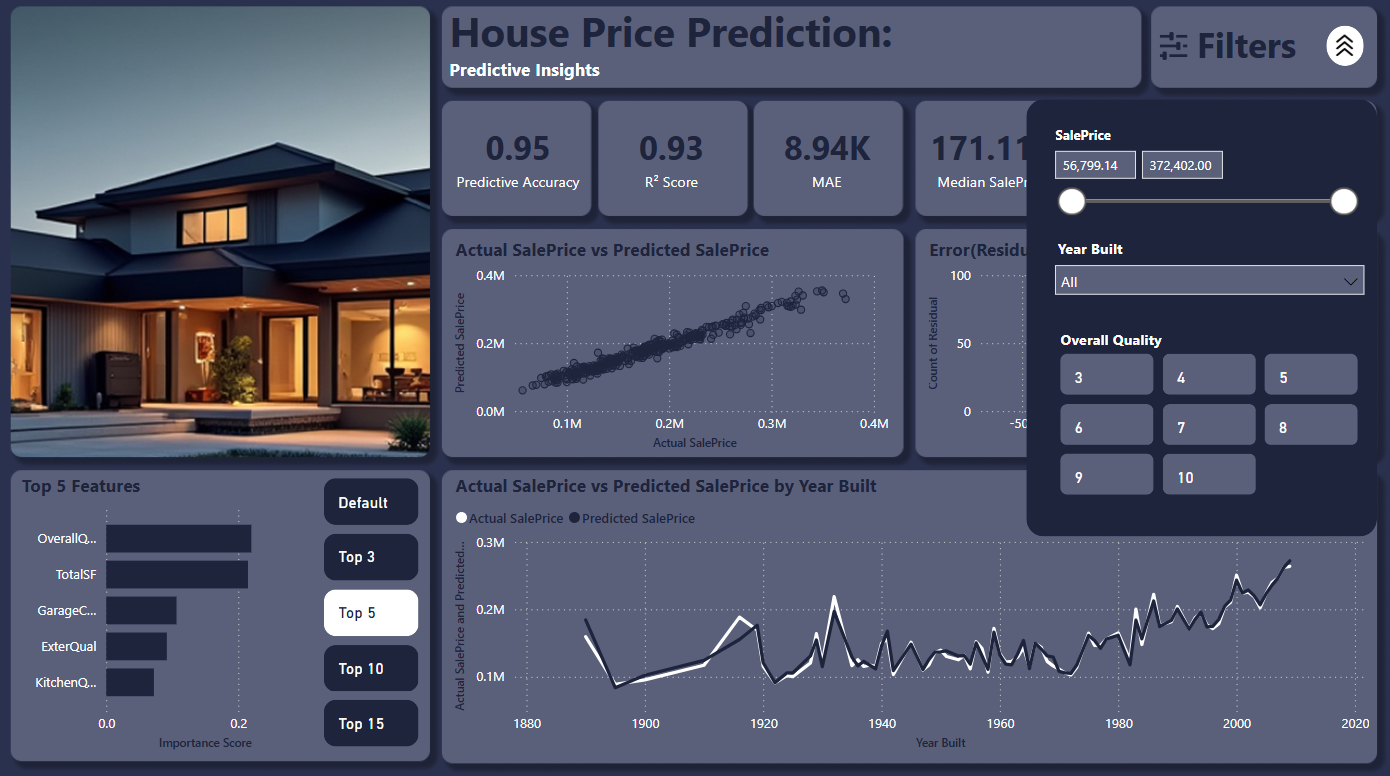

Layout of this report page (visuals, bound fields, positions):
{"tool":"powerbi","page":{"name":"Predictive Insights","canvas":[1280,720],"ordinal":2},"visuals":[{"type":"image","box":[1056,24,48,40],"z":0,"group":"g2"},{"type":"shape","box":[1221.4,25.3,34.7,37.2],"z":0,"group":"g1"},{"type":"scatterChart","title":"Actual SalePrice vs Predicted SalePrice","fields":{"X":["xgboost_predictions.Actual_SalePrice"],"Y":["xgboost_predictions.Predicted_SalePrice"]},"box":[414.9,220.3,409.5,201.4],"z":0},{"type":"textbox","box":[1096,16,125.3,52],"z":1000,"group":"g2"},{"type":"image","box":[1218.7,21.3,38.7,44],"z":1000,"group":"g1"},{"type":"clusteredBarChart","fields":{"Category":["all_features.Feature"],"Y":["Feature_Measures.Top_N_By_Importance"]},"box":[14.9,437.8,278.4,259.5],"z":1000},{"type":"group","id":"g1","title":"Filter Down Button","box":[1218.7,19.3,39.1,48],"z":2000,"group":"g2"},{"type":"advancedSlicerVisual","fields":{"Values":["Rank Table.Option"]},"box":[293.2,437.8,97.3,259.5],"z":2000},{"type":"clusteredColumnChart","title":"Error(Residual) Distribution","fields":{"Category":["xgboost_predictions.Residual Bins"],"Y":["CountNonNull(xgboost_predictions.Residual)"]},"box":[850,220.3,416.2,201.4],"z":3000},{"type":"lineChart","title":"Actual SalePrice vs Predicted SalePrice by Year Built","fields":{"Category":["xgboost_predictions.YearBuilt"],"Y":["Avg(xgboost_predictions.Actual_SalePrice)","Avg(xgboost_predictions.Predicted_SalePrice)"]},"box":[414.9,437.8,851.4,259.5],"z":4000},{"type":"card","fields":{"Values":["Avg(housing_price_metrics.Value)"]},"box":[414.9,100,125.7,93.2],"z":6000},{"type":"card","fields":{"Values":["Avg(housing_price_metrics.Value)"]},"box":[554.1,100,129.7,93.2],"z":7000},{"type":"card","fields":{"Values":["Avg(housing_price_metrics.Value)"]},"box":[698.6,100,125.7,93.2],"z":8000},{"type":"card","fields":{"Values":["Avg(housing_price_metrics.Value)"]},"box":[850,100,125.7,93.2],"z":9000},{"type":"card","fields":{"Values":["Avg(housing_price_metrics.Value)"]},"box":[987.8,100,133.8,93.2],"z":10000},{"type":"card","fields":{"Values":["Avg(housing_price_metrics.Value)"]},"box":[1135.1,100,131.1,91.9],"z":11000},{"type":"textbox","box":[408,0,632,85.3],"z":12000},{"type":"group","id":"g2","title":"Filter Label","box":[1056,16,201.8,52],"z":13000}]}

Visuals, with their boxes in screenshot pixels (x1, y1, x2, y2), scaled from the page's 1280x720 canvas onto the 1390x776 screenshot:
image: x1=1147, y1=26, x2=1199, y2=69
shape: x1=1326, y1=27, x2=1364, y2=67
"Actual SalePrice vs Predicted SalePrice" scatterChart: x1=451, y1=237, x2=895, y2=454
textbox: x1=1190, y1=17, x2=1326, y2=73
image: x1=1323, y1=23, x2=1365, y2=70
clusteredBarChart - all_features.Feature x Feature_Measures.Top_N_By_Importance: x1=16, y1=472, x2=319, y2=752
"Filter Down Button" group: x1=1323, y1=21, x2=1366, y2=73
advancedSlicerVisual - Rank Table.Option: x1=318, y1=472, x2=424, y2=752
"Error(Residual) Distribution" clusteredColumnChart: x1=923, y1=237, x2=1375, y2=454
"Actual SalePrice vs Predicted SalePrice by Year Built" lineChart: x1=451, y1=472, x2=1375, y2=752
card - Avg(housing_price_metrics.Value): x1=451, y1=108, x2=587, y2=208
card - Avg(housing_price_metrics.Value): x1=602, y1=108, x2=743, y2=208
card - Avg(housing_price_metrics.Value): x1=759, y1=108, x2=895, y2=208
card - Avg(housing_price_metrics.Value): x1=923, y1=108, x2=1060, y2=208
card - Avg(housing_price_metrics.Value): x1=1073, y1=108, x2=1218, y2=208
card - Avg(housing_price_metrics.Value): x1=1233, y1=108, x2=1375, y2=207
textbox: x1=443, y1=0, x2=1129, y2=92
"Filter Label" group: x1=1147, y1=17, x2=1366, y2=73
